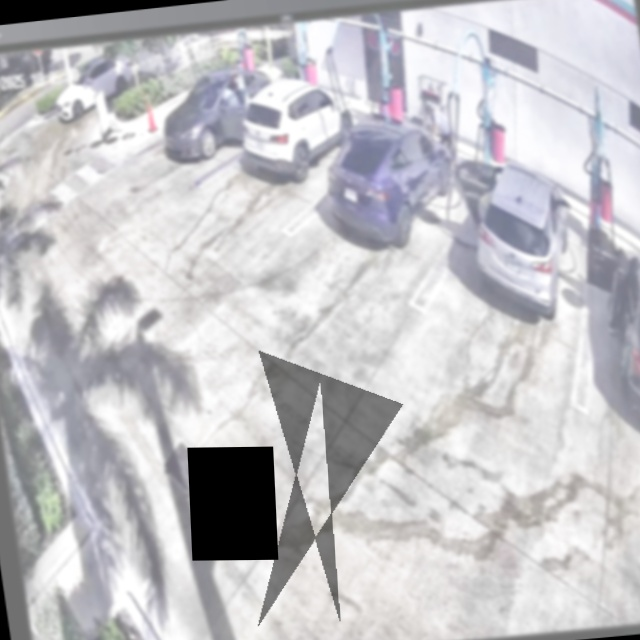Car: (449, 146, 582, 320), (318, 110, 464, 253), (150, 65, 282, 167), (237, 75, 361, 183)
